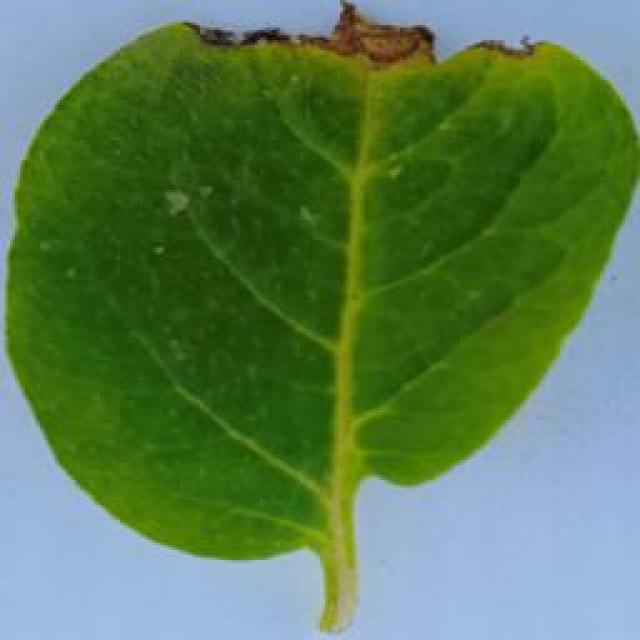Potato_Late_Blight: (5, 22, 633, 554)
